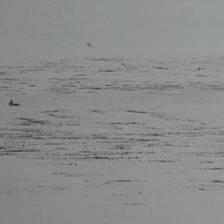surfer: (7, 99, 20, 107)
